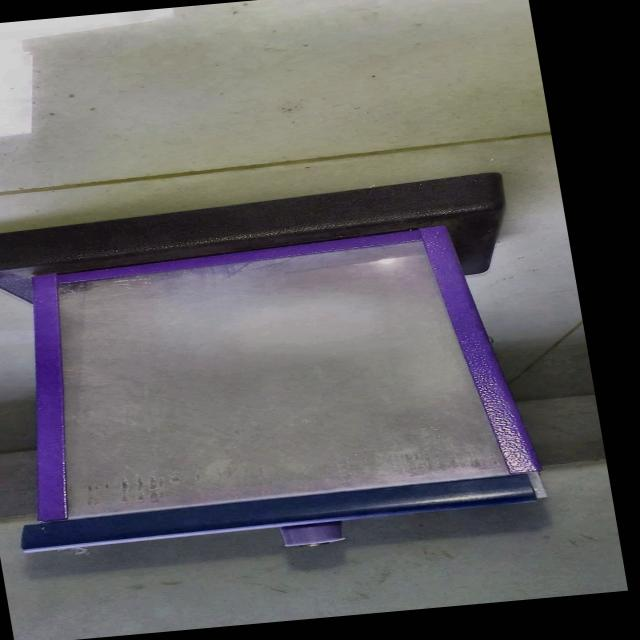Electroscope: (0, 155, 613, 610)
